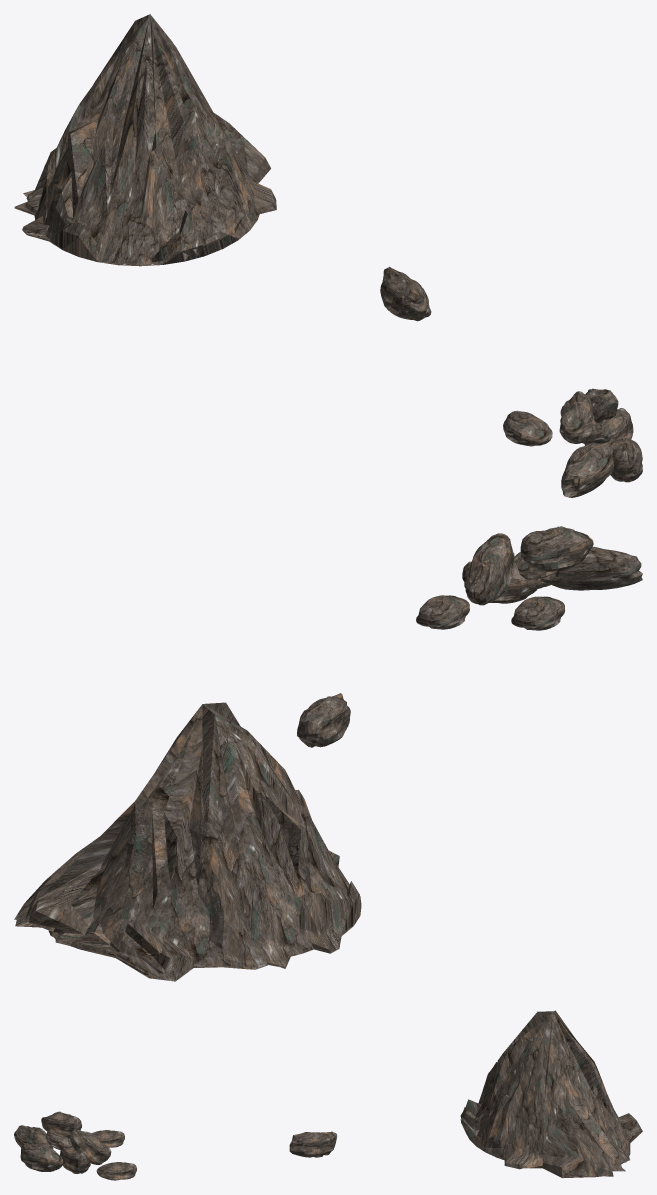
File: марганец каменюка.fbx
The picture shows the model from 3 angles, top to bottom: view 1: azimuth 30°, elevation 25°; view 2: azimuth 150°, elevation 25°; view 3: azimuth 270°, elevation 25°; orthographic projection. The views are drawn at different scales.
Visible parts, largest first — view 1: Cone, Sphere.008, Sphere.005, Sphere.004, Sphere.007, Sphere.003, Sphere, Sphere.002; view 2: Cone, Sphere.008, Sphere, Sphere.004, Sphere.005, Sphere.001, Sphere.007, Sphere.002; view 3: Cone, Sphere.005, Sphere.003, Sphere, Sphere.004, Sphere.001, Sphere.002, Sphere.008, Sphere.007, Sphere.006.
Boxes of the visible parts, bbox=[...] form: Cone: bbox=[14, 14, 276, 266]; Sphere.008: bbox=[561, 442, 613, 497]; Sphere.005: bbox=[380, 266, 431, 321]; Sphere.004: bbox=[559, 391, 595, 443]; Sphere.007: bbox=[503, 410, 552, 446]; Sphere.003: bbox=[610, 438, 642, 482]; Sphere: bbox=[585, 388, 618, 422]; Sphere.002: bbox=[584, 408, 633, 445]; Cone: bbox=[14, 702, 361, 981]; Sphere.008: bbox=[540, 546, 642, 590]; Sphere: bbox=[465, 533, 514, 605]; Sphere.004: bbox=[520, 526, 593, 571]; Sphere.005: bbox=[297, 693, 350, 747]; Sphere.001: bbox=[416, 595, 469, 629]; Sphere.007: bbox=[511, 596, 565, 630]; Sphere.002: bbox=[462, 561, 540, 603]; Cone: bbox=[460, 1010, 642, 1178]; Sphere.005: bbox=[289, 1131, 337, 1157]; Sphere.003: bbox=[20, 1143, 63, 1171]; Sphere: bbox=[70, 1129, 111, 1164]; Sphere.004: bbox=[41, 1111, 81, 1138]; Sphere.001: bbox=[96, 1162, 136, 1180]; Sphere.002: bbox=[59, 1146, 90, 1173]; Sphere.008: bbox=[14, 1125, 53, 1149]; Sphere.007: bbox=[91, 1130, 124, 1147]; Sphere.006: bbox=[46, 1129, 71, 1150].
Bounding box in the file's own units: 760 × 566 × 2463.
1 material, 1 textured.
